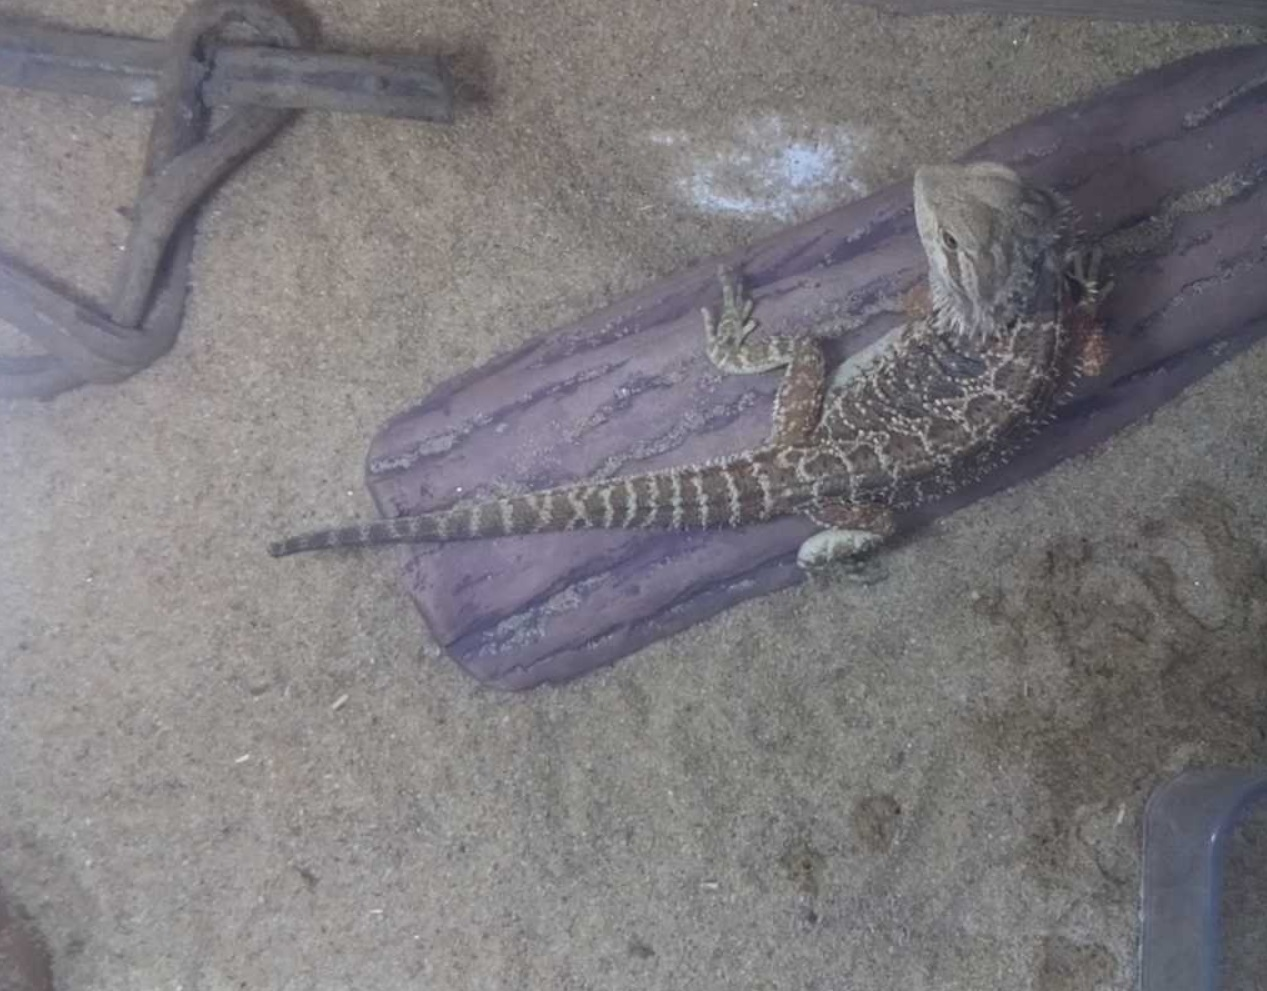bearded: (270, 156, 1119, 596)
